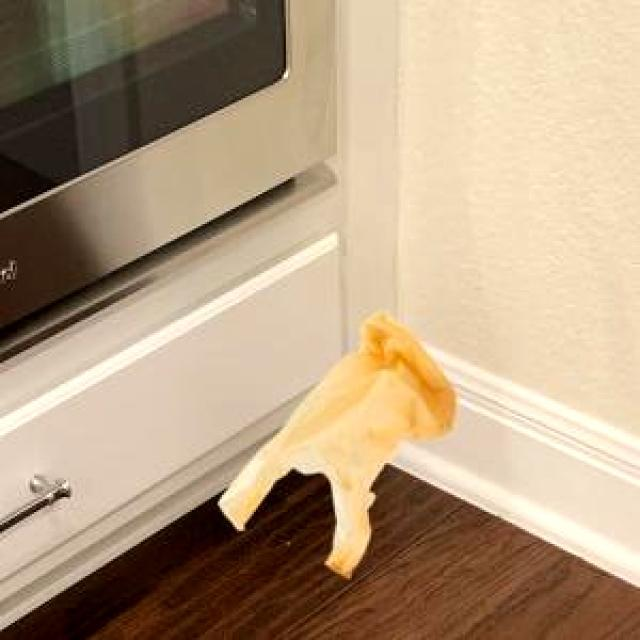Plastic_Bag: (216, 308, 454, 575)
